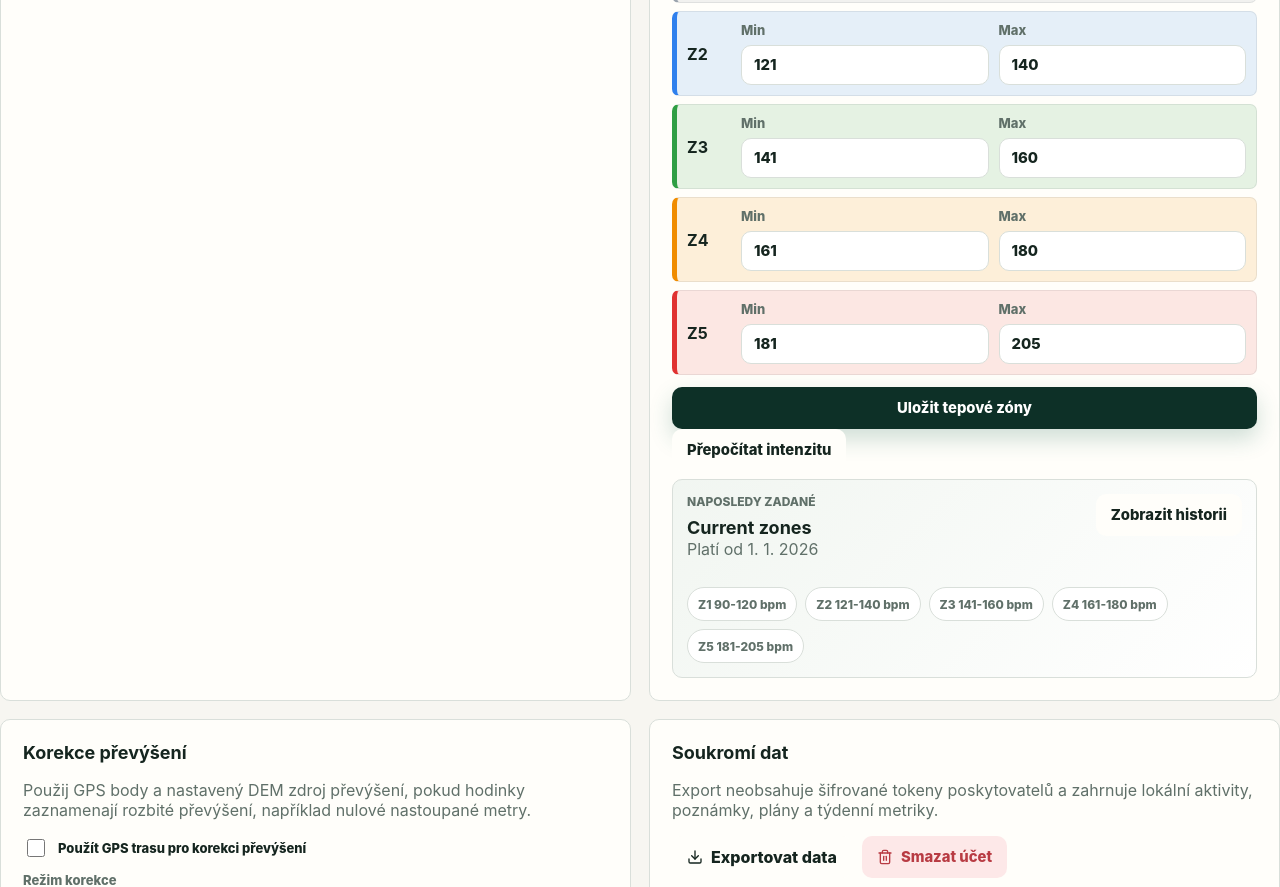
Test: SettingsPage › recalculates intensity metrics from saved heart-rate zones
The width and height of the screenshot is (1280, 887).
(page scrolled)
Expected: the heading "Current zones" is shown, x1=687 y1=518 x2=818 y2=539
Click the button "Přepočítat intenzitu" at (759, 450), box x1=672 y1=430 x2=846 y2=472
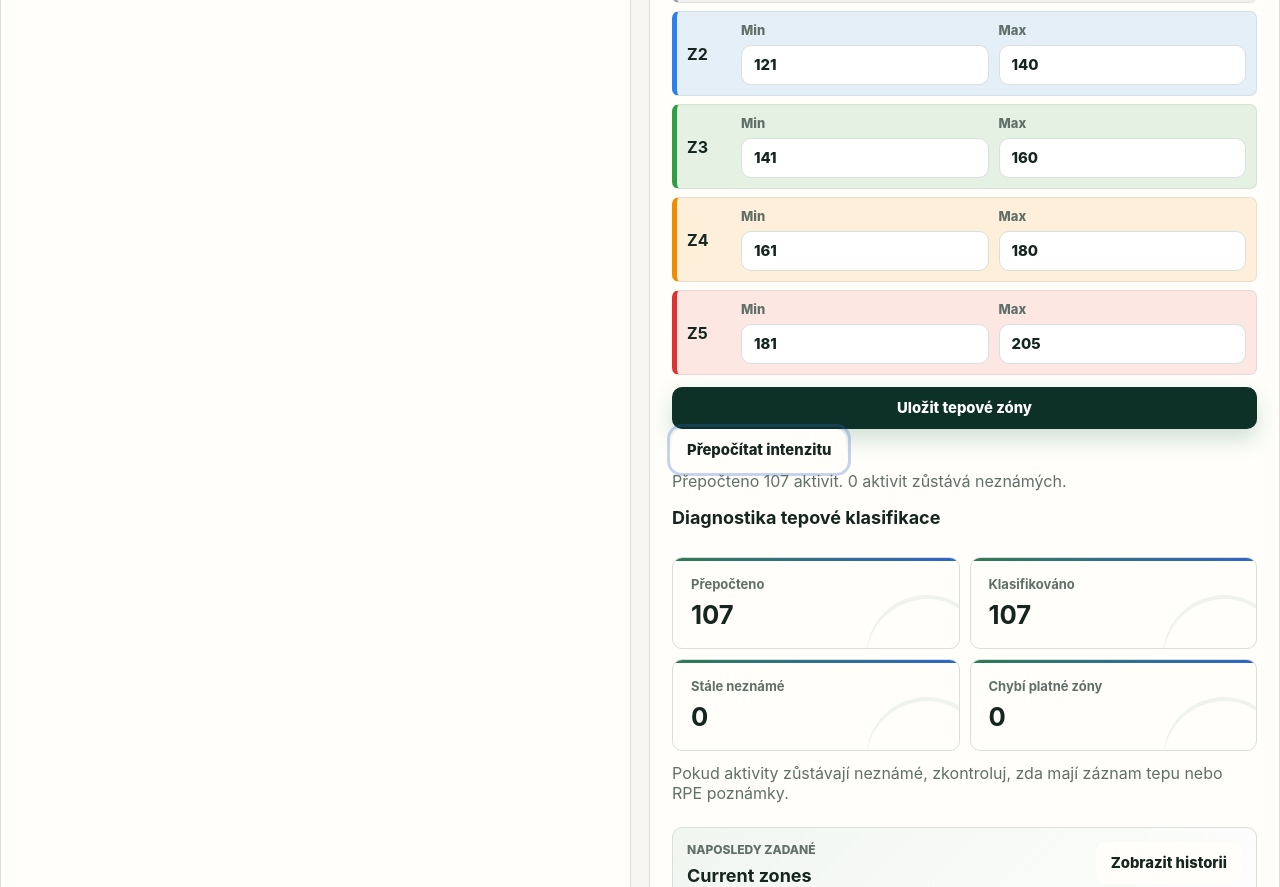
Expected: the text "Přepočteno 107 aktivit. 0 aktivit zůstává neznámých." is shown, x1=672 y1=472 x2=1066 y2=492
